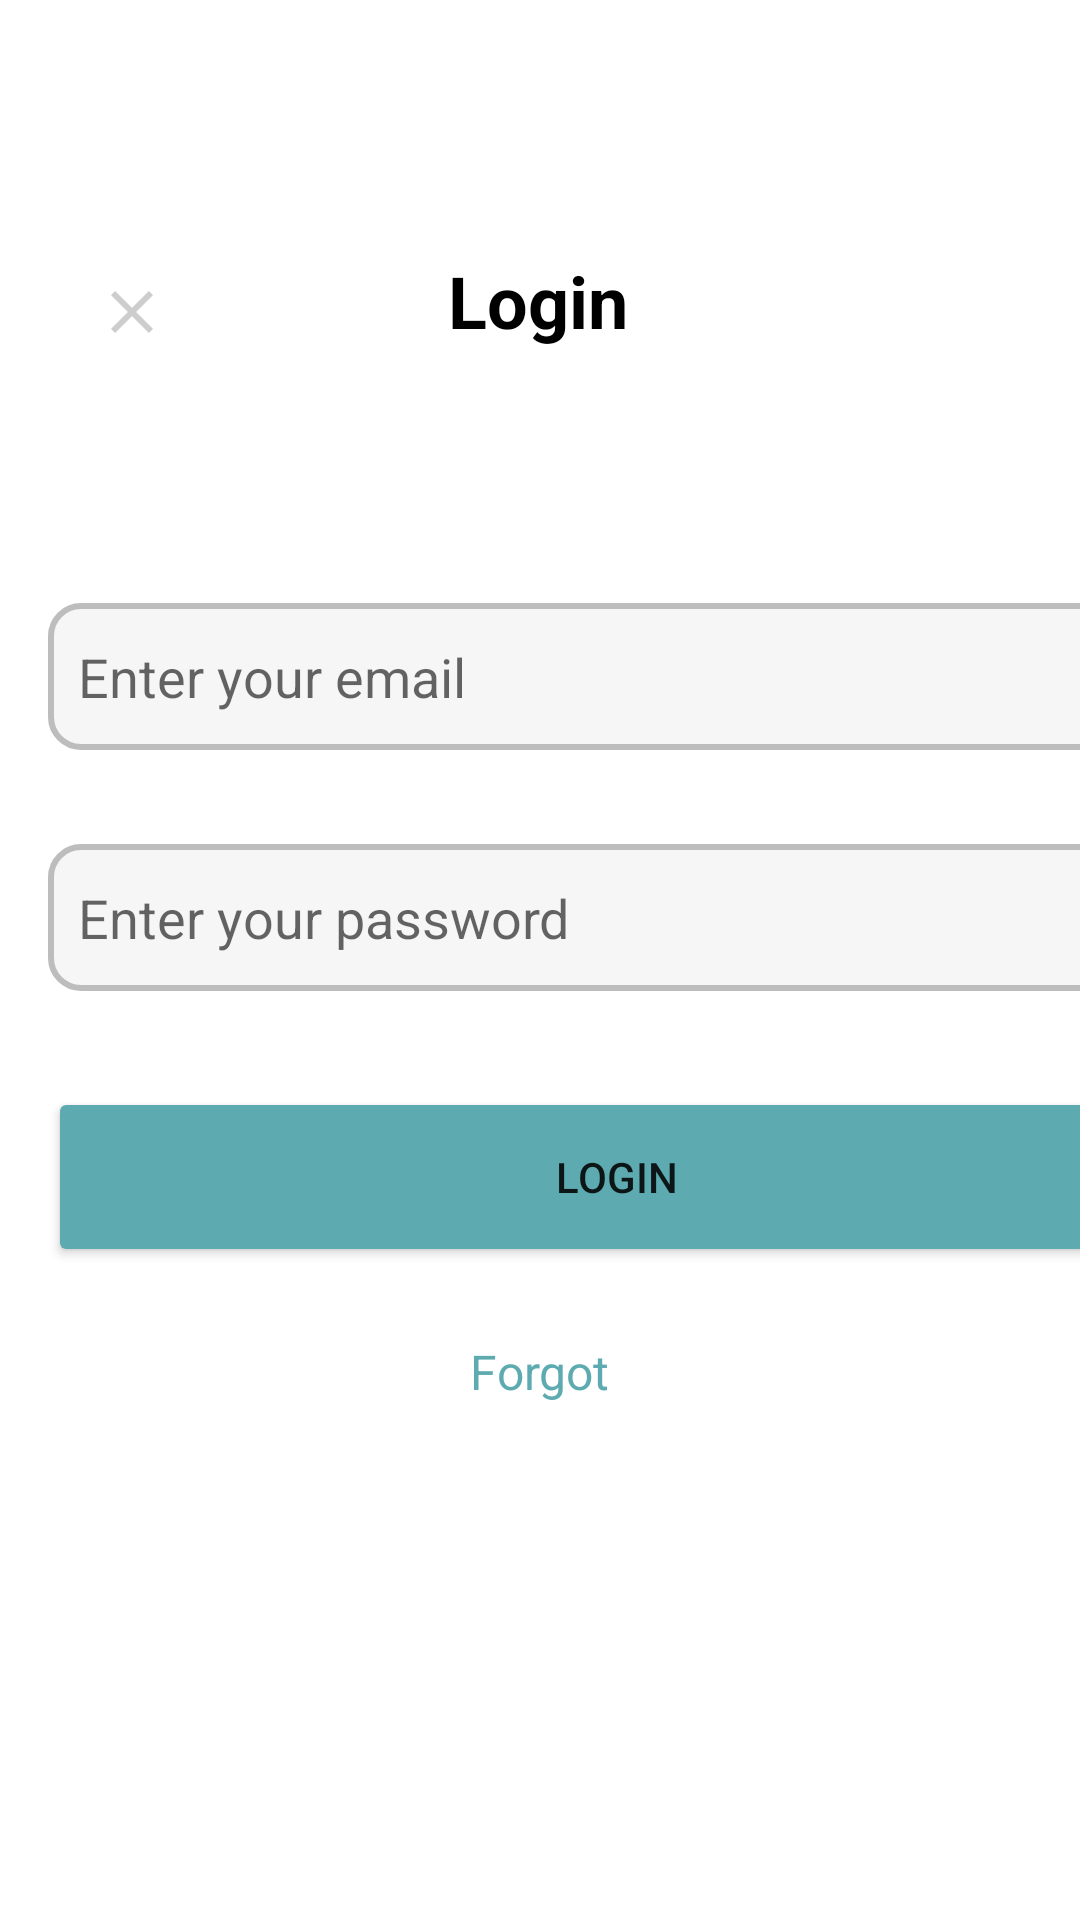

Point at icon controls on the screen. Image size 1080px×1920px, points as [x,y].
close: [132,312]
